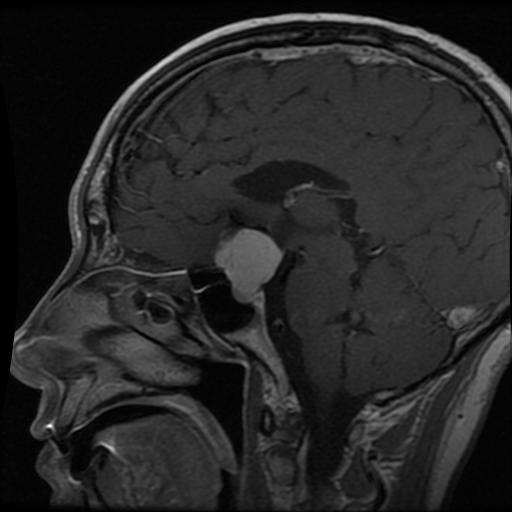Menigiomia_tumour: (216, 227, 280, 301)
